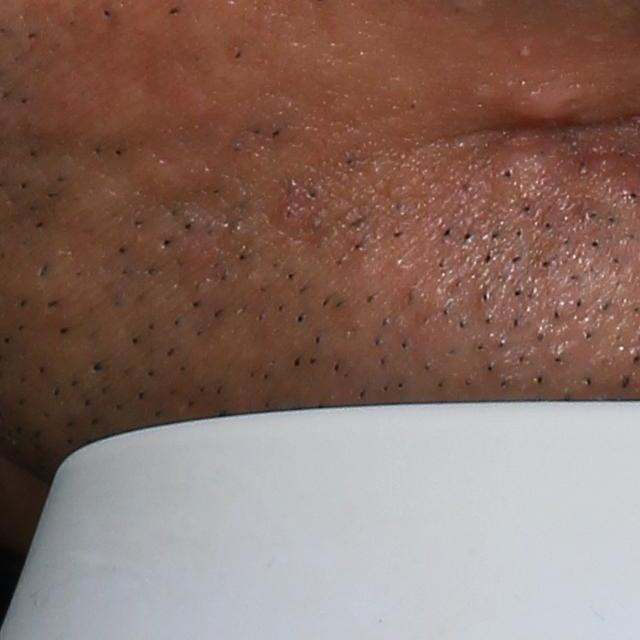hypertrophic_scar: (60, 73, 177, 144), (484, 62, 620, 121), (488, 125, 565, 199), (135, 144, 220, 199)
